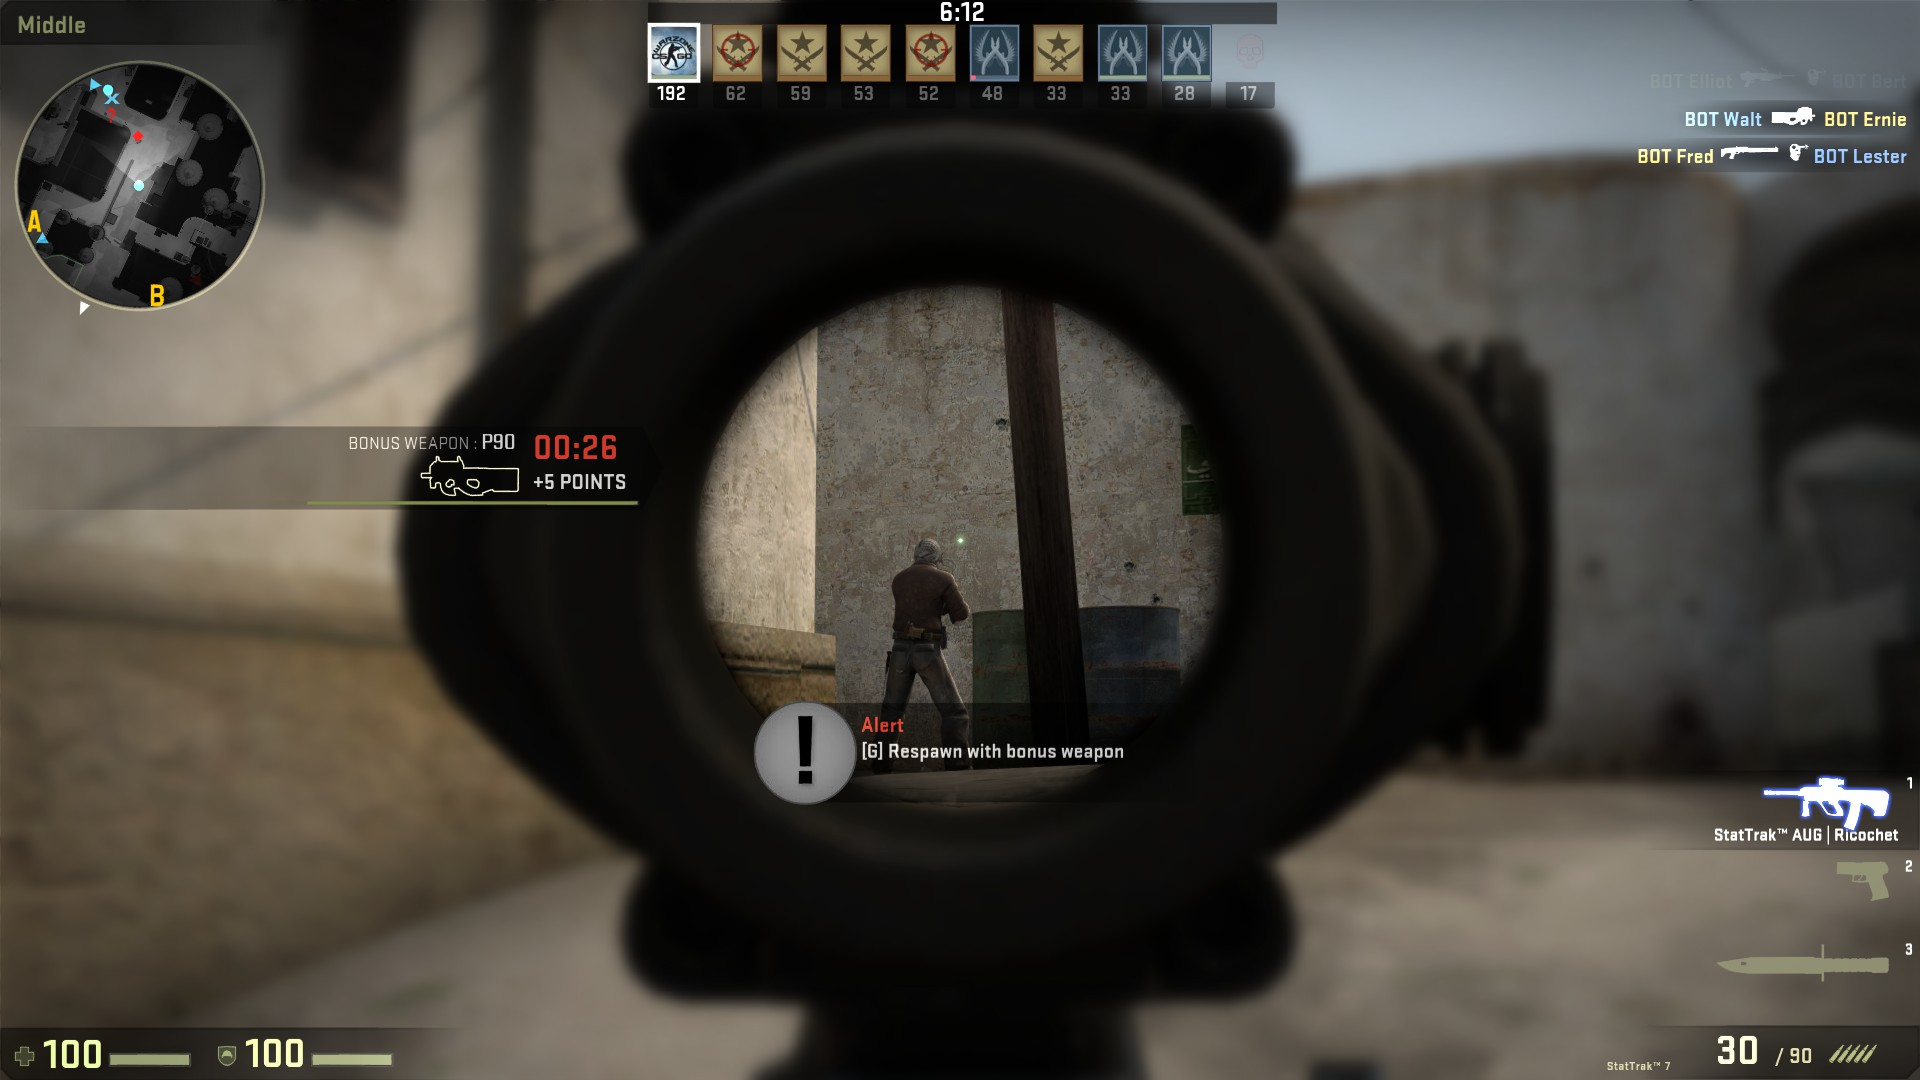t: (882, 535, 971, 771)
th: (910, 535, 943, 574)
